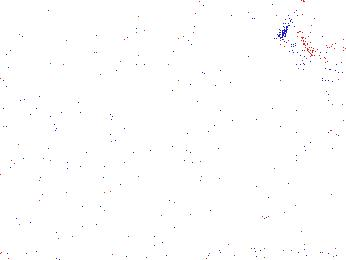moon jellyfish: (290, 1, 346, 83), (143, 68, 228, 119), (191, 1, 244, 69), (33, 1, 121, 25)
